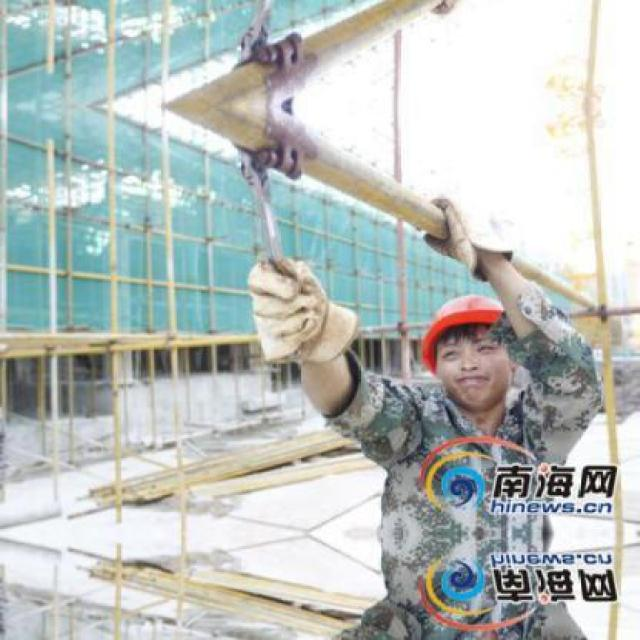helmet: (408, 277, 524, 409)
